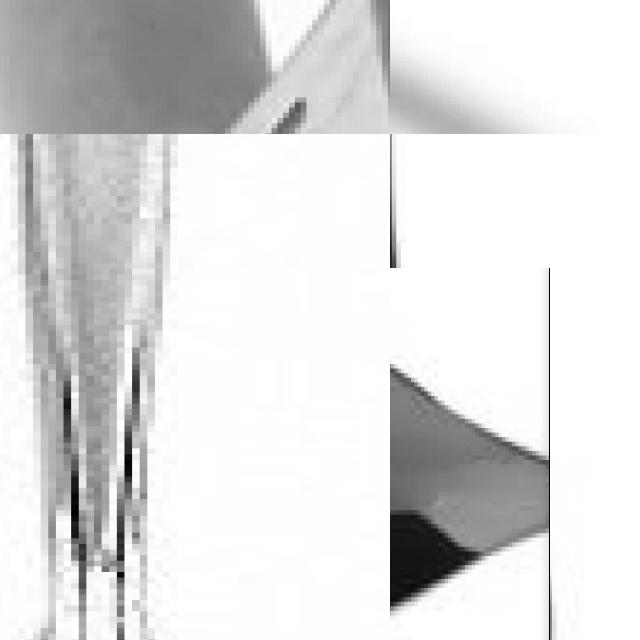forks: (0, 0, 390, 134)
spoons: (390, 294, 577, 640)
